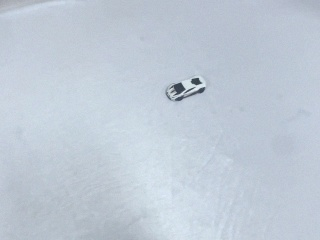toy_car: (164, 75, 207, 102)
